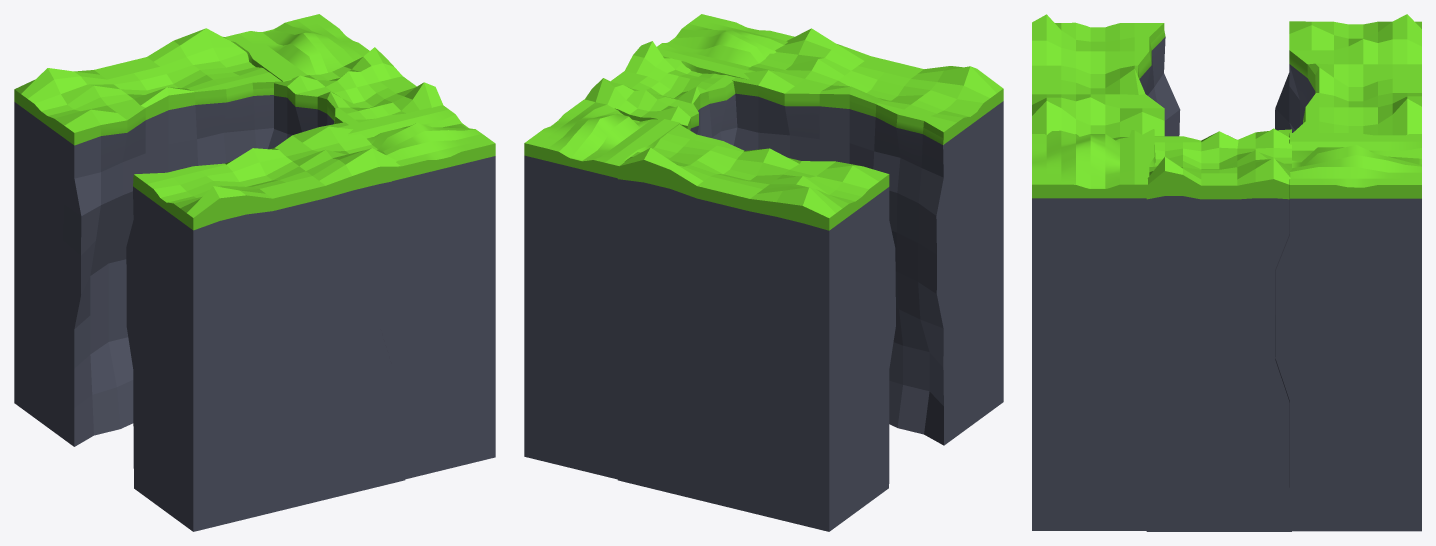
File: LakeBlockSet.dae
The picture shows the model from 3 angles, left to right: view 1: azimuth 30°, elevation 25°; view 2: azimuth 150°, elevation 25°; view 3: azimuth 270°, elevation 25°; orthographic projection. The views are drawn at different scales.
Visible parts, largest first — view 1: polySurface407; view 2: polySurface407; view 3: polySurface407.
Part boxes in pixels (bbox=[...]): polySurface407: bbox=[14, 14, 495, 531]; polySurface407: bbox=[524, 14, 1003, 531]; polySurface407: bbox=[1032, 14, 1421, 531].
Size of the model in its own units: 158 by 166 by 159.
